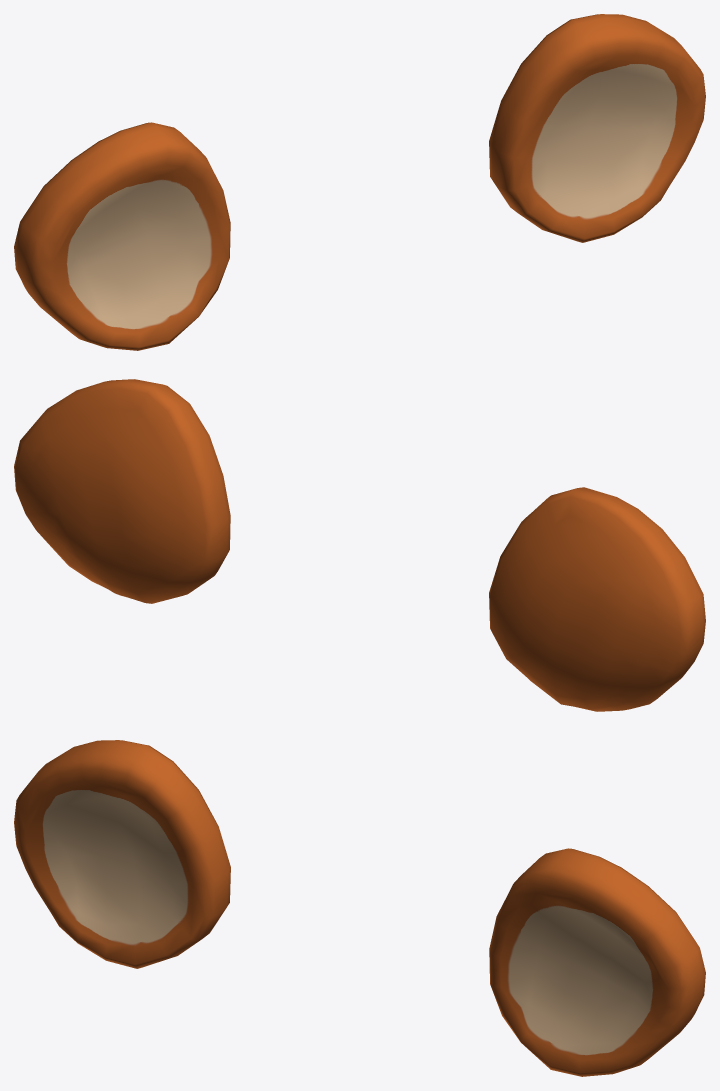
File: ImposterSkin02_ear.fbx
3 renders of one model, top to bottom at view 1: azimuth 30°, elevation 25°; view 2: azimuth 150°, elevation 25°; view 3: azimuth 330°, elevation 25°, orthographic.
Visible parts, largest first — view 1: ImposterWarSkin02_ear_geo; view 2: ImposterWarSkin02_ear_geo; view 3: ImposterWarSkin02_ear_geo.
Part boxes in pixels (x1,y1,x2,y2): ImposterWarSkin02_ear_geo: [14, 14, 705, 350]; ImposterWarSkin02_ear_geo: [14, 379, 705, 711]; ImposterWarSkin02_ear_geo: [14, 740, 705, 1076].
Bounding box in the file's own units: 3.57 × 1.08 × 0.3931.
Materials: 1 (1 with a texture image).
